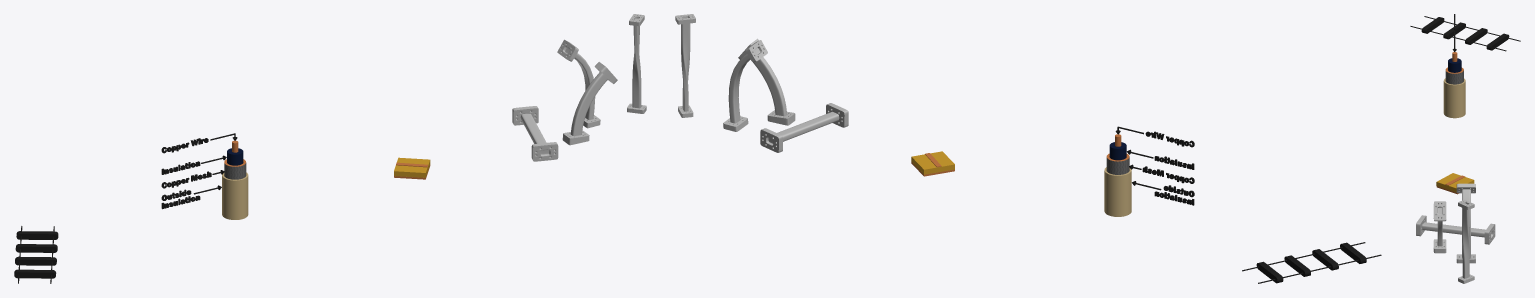
The model's file is saluran.gltf.
The picture shows the model from 3 angles, left to right: view 1: azimuth 30°, elevation 25°; view 2: azimuth 150°, elevation 25°; view 3: azimuth 270°, elevation 25°; orthographic projection. The views are drawn at different scales.
Visible parts, largest first — view 1: Cylinder.015, Cube.003, Cube.004, Cylinder.005, Cube.005, Cube.006, Cube.001, Text.002; view 2: Cylinder.015, Cube.004, Cube.006, Cylinder.005, Cube.003, Cube.005, Cube.001; view 3: Cylinder.015, Cylinder.005, Cube.004, Cube.005, Cube.003, Cube.006, Cube.001, Cylinder.009, Cylinder.010.
Part boxes in pixels (left/top/right/bottom): Cylinder.015: left=14, top=226, right=58, bottom=283; Cube.003: left=562, top=62, right=617, bottom=145; Cube.004: left=512, top=106, right=558, bottom=161; Cylinder.005: left=222, top=172, right=248, bottom=219; Cube.005: left=627, top=14, right=646, bottom=113; Cube.006: left=557, top=39, right=600, bottom=128; Cube.001: left=394, top=157, right=430, bottom=177; Text.002: left=161, top=189, right=200, bottom=209; Cylinder.015: left=1242, top=242, right=1381, bottom=283; Cube.004: left=760, top=103, right=848, bottom=152; Cube.006: left=723, top=40, right=767, bottom=131; Cylinder.005: left=1104, top=167, right=1131, bottom=216; Cube.003: left=738, top=38, right=795, bottom=125; Cube.005: left=675, top=14, right=695, bottom=117; Cube.001: left=911, top=151, right=954, bottom=174; Cylinder.015: left=1410, top=16, right=1520, bottom=51; Cylinder.005: left=1443, top=78, right=1465, bottom=118; Cube.004: left=1416, top=215, right=1495, bottom=244; Cube.005: left=1458, top=199, right=1474, bottom=283; Cube.003: left=1433, top=201, right=1446, bottom=253; Cube.006: left=1456, top=183, right=1475, bottom=263; Cube.001: left=1436, top=173, right=1474, bottom=192; Cylinder.009: left=1445, top=67, right=1463, bottom=84; Cylinder.010: left=1448, top=58, right=1461, bottom=72.
Bounding box in the file's own units: 7.23 × 0.982 × 1.27.
Materials: 7 (1 with a texture image).
